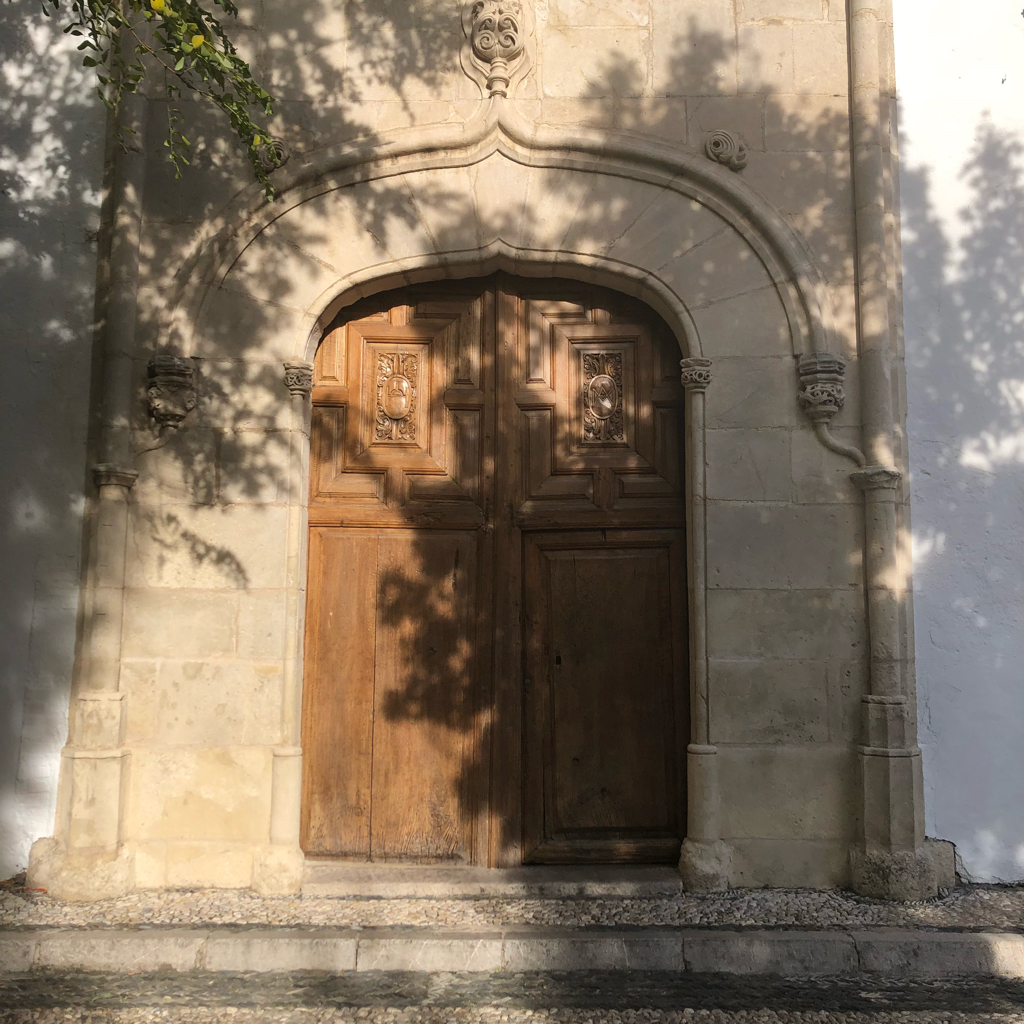arco-conopial: (228, 98, 768, 215), (307, 229, 696, 322)
